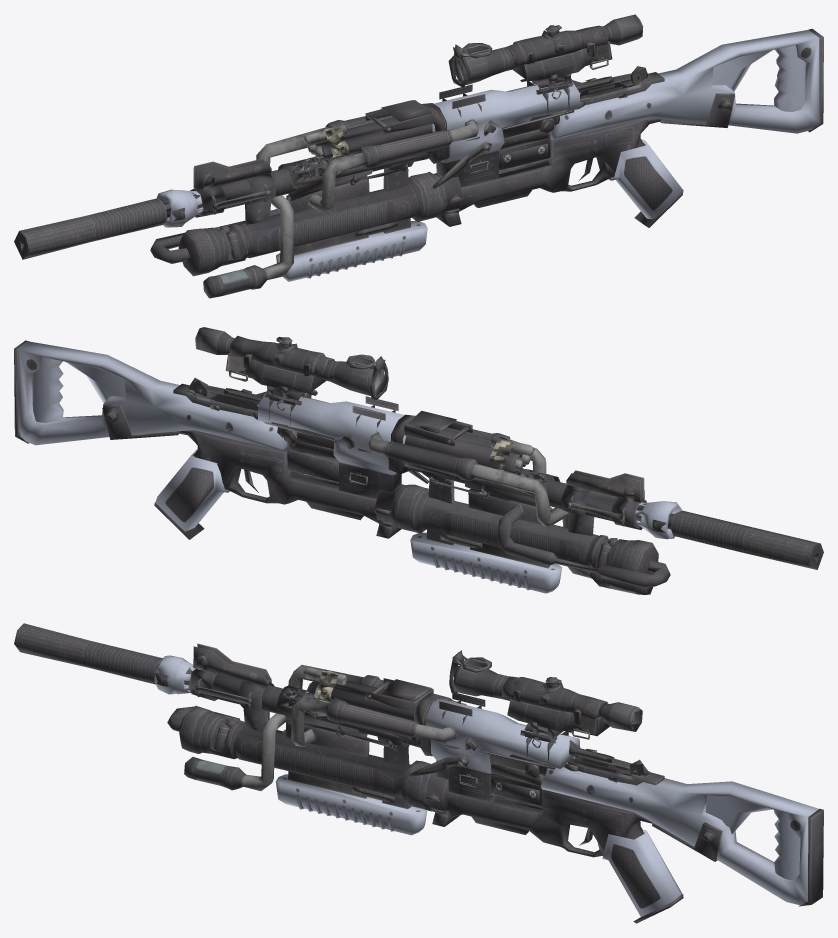
File: snipa.fbx
3 views of the same model, one above another, from view 1: azimuth 30°, elevation 25°; view 2: azimuth 150°, elevation 25°; view 3: azimuth 330°, elevation 25° (orthographic).
Parts seen in each view (by area): view 1: xd; view 2: xd; view 3: xd.
Part boxes in pixels (left/top/right/bottom): xd: left=14, top=14, right=823, bottom=298; xd: left=14, top=327, right=823, bottom=594; xd: left=14, top=623, right=823, bottom=923.
Bounding box in the file's own units: 970 × 258 × 92.75.
Materials: 1 (1 with a texture image).
